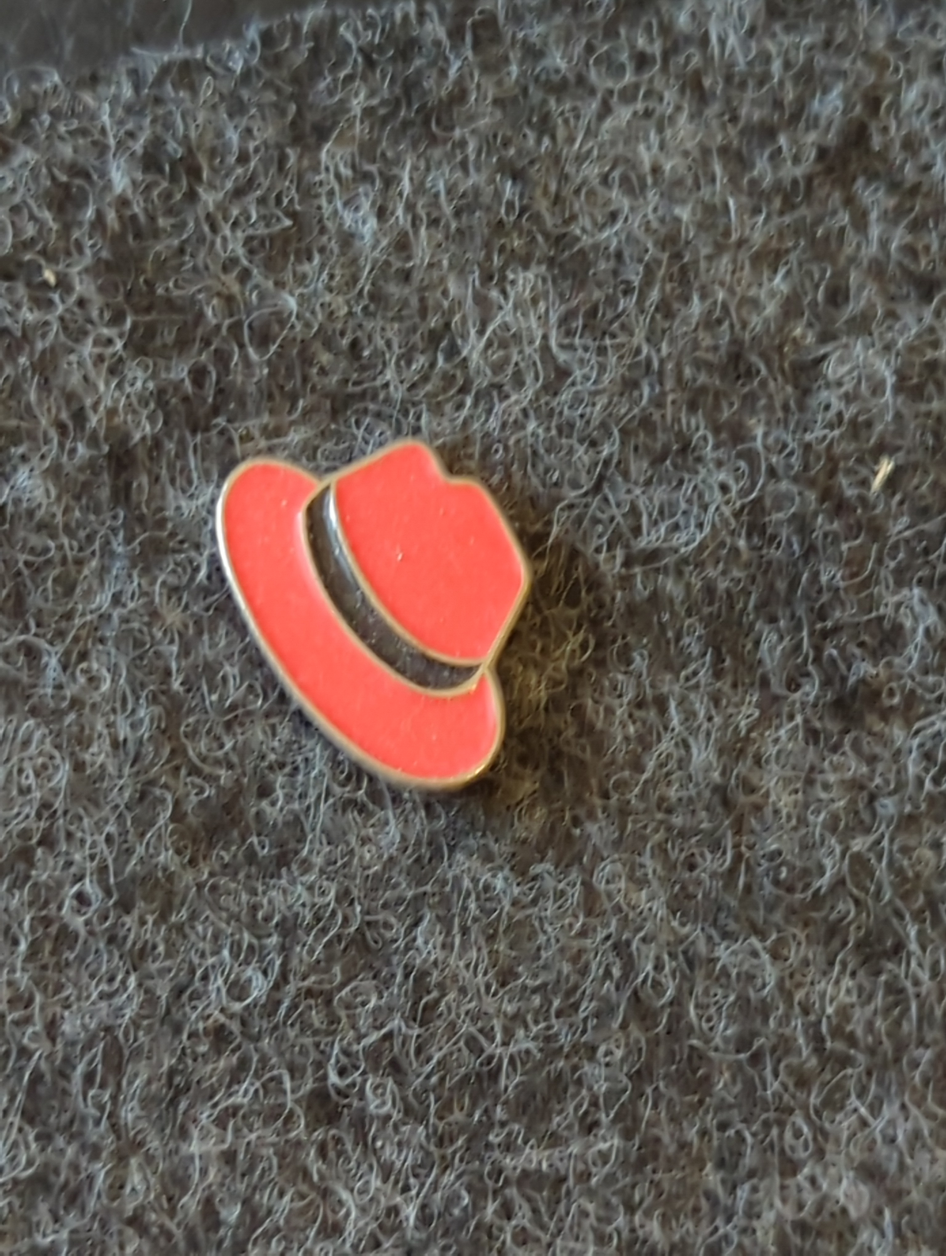Red-Hat: (145, 347, 630, 895)
